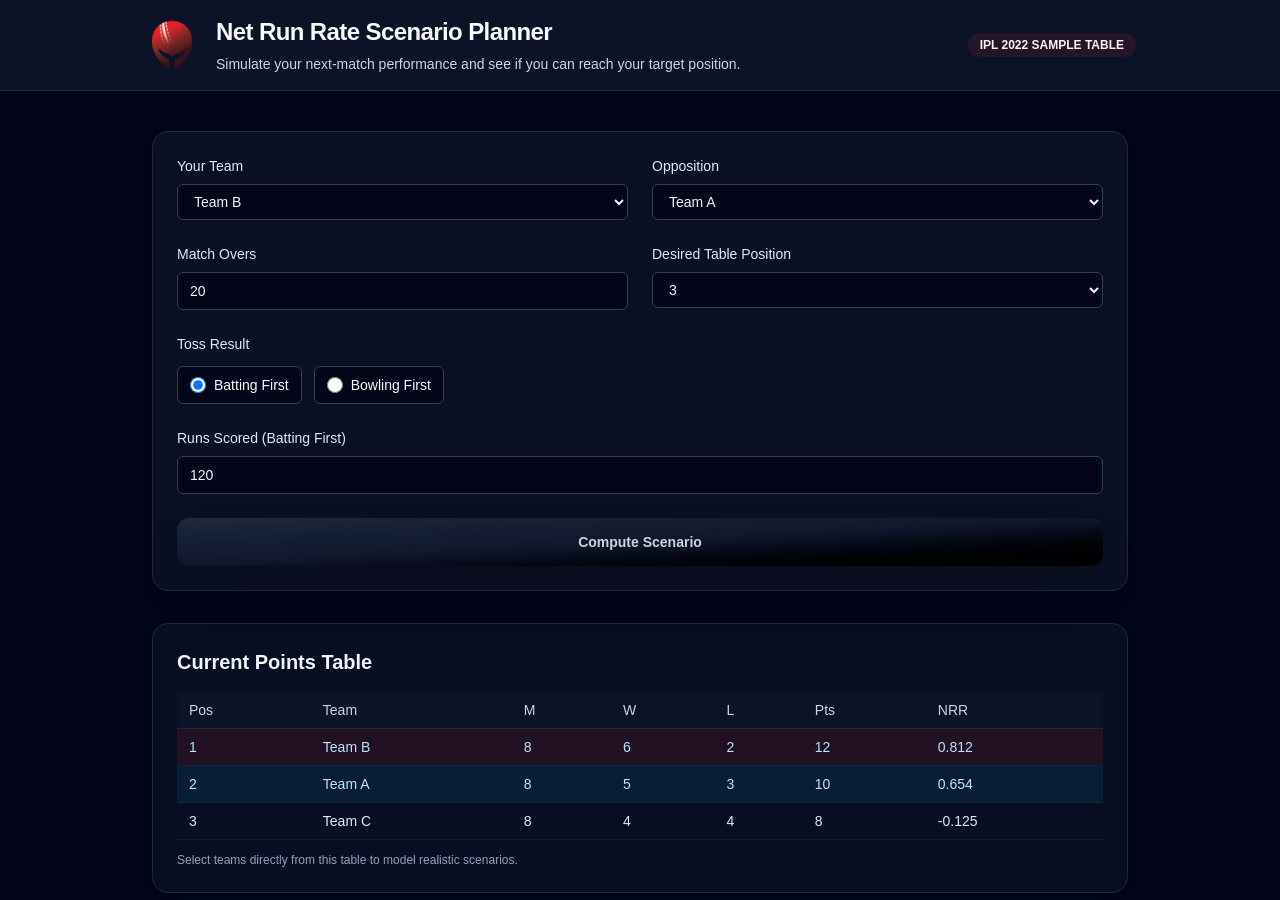
Test case: Home page › shows an error message when the scenario API returns an error
Click the button "Compute Scenario". click: (640, 542)
box: [177, 518, 1103, 566]
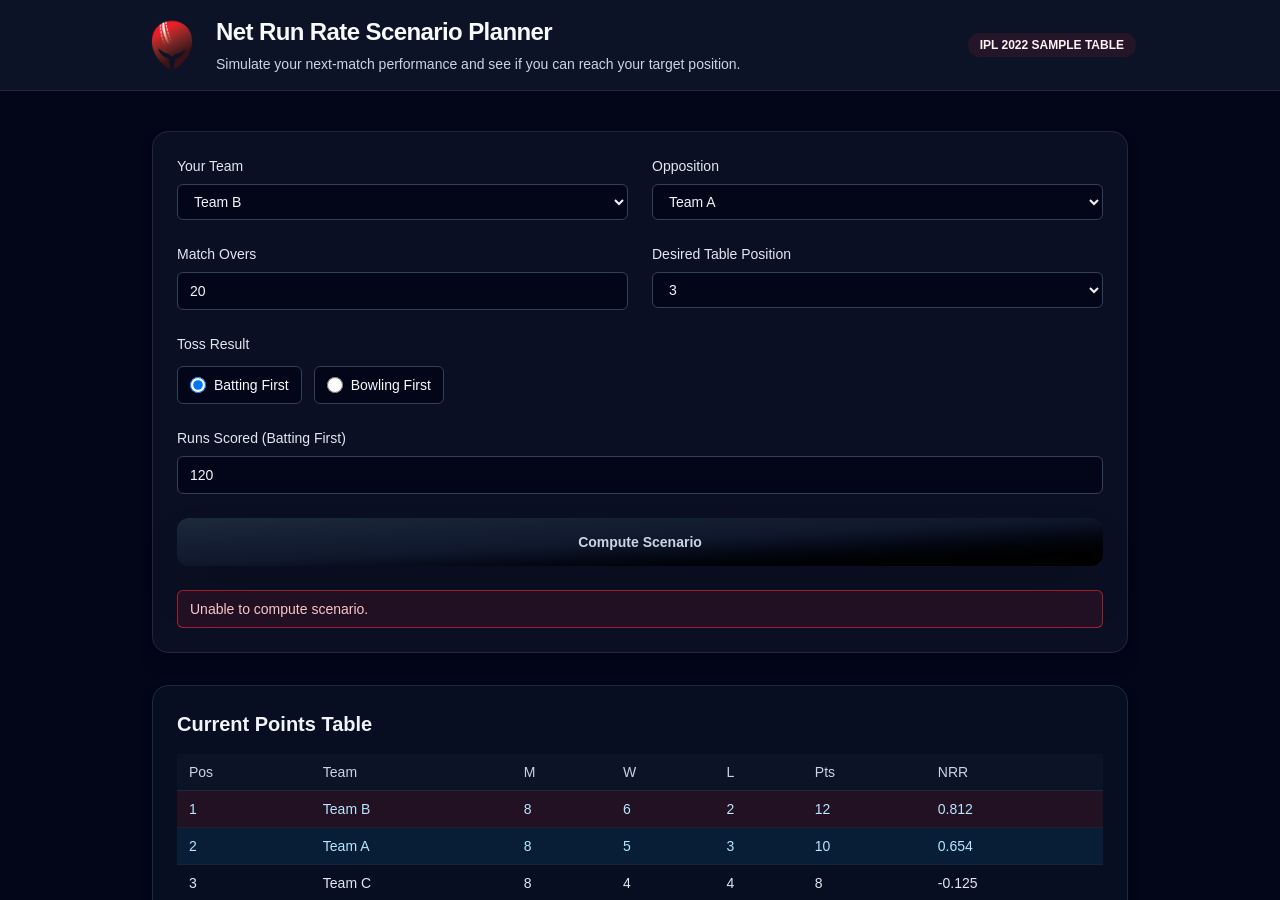
Check: the text "Unable to compute scenario." is shown, box [177, 590, 1103, 628]
